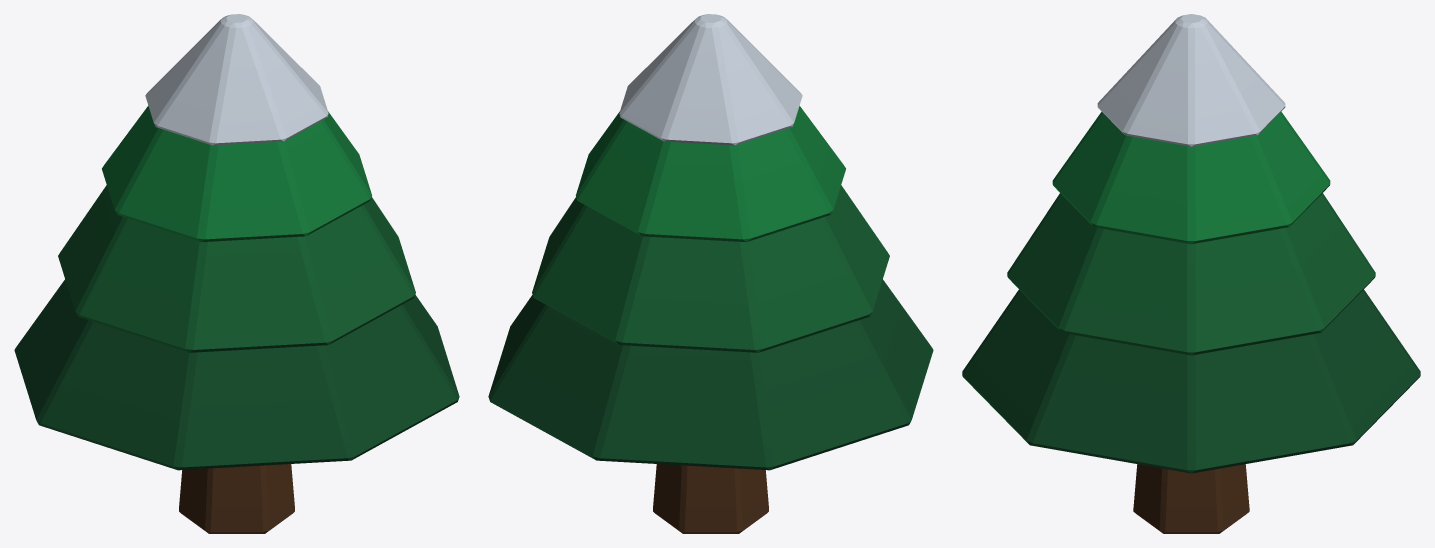
File: pine.glb
3 renders of one model, left to right at view 1: azimuth 30°, elevation 25°; view 2: azimuth 150°, elevation 25°; view 3: azimuth 270°, elevation 25°, orthographic.
Parts seen in each view (by area): view 1: pine; view 2: pine; view 3: pine.
Part boxes in pixels (x1,y1,x2,y2): pine: [14, 14, 459, 533]; pine: [488, 14, 933, 533]; pine: [962, 14, 1420, 533].
Size of the model in its own units: 1.22 by 1.45 by 1.22.
